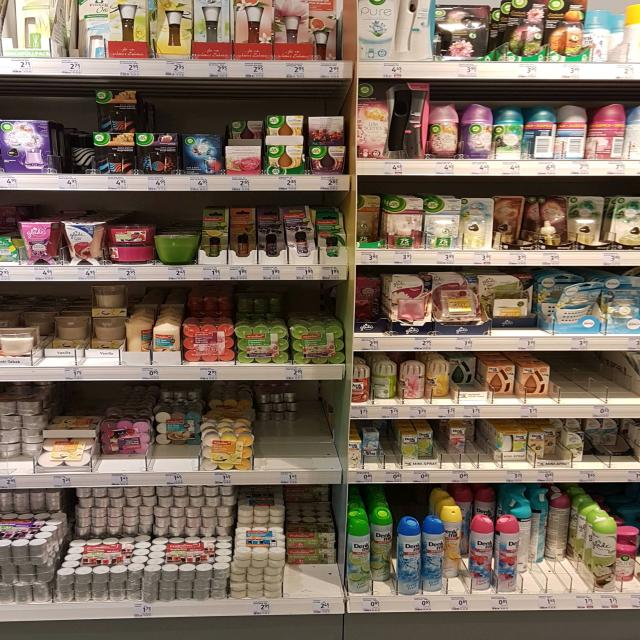unorganised: (518, 487, 570, 572), (544, 280, 601, 326), (485, 281, 536, 331), (230, 526, 287, 569), (91, 284, 125, 353), (486, 365, 553, 400), (492, 516, 520, 590), (93, 85, 138, 131), (101, 422, 152, 462), (492, 194, 528, 250), (441, 505, 466, 585), (570, 192, 606, 247), (589, 101, 624, 157), (533, 196, 570, 247), (153, 413, 201, 452), (76, 1, 109, 56), (287, 530, 337, 565), (525, 106, 557, 160), (371, 509, 394, 584), (557, 101, 586, 159), (152, 231, 198, 264), (256, 388, 297, 425), (53, 315, 89, 354), (369, 357, 399, 403), (313, 16, 341, 63), (586, 419, 622, 455), (308, 115, 347, 145), (356, 197, 381, 243), (445, 424, 482, 455), (398, 363, 426, 400), (123, 319, 152, 354), (107, 244, 153, 265), (357, 278, 380, 320), (426, 359, 449, 400), (532, 430, 561, 462), (229, 120, 264, 146), (452, 357, 477, 386), (68, 141, 93, 169), (363, 431, 380, 462), (418, 432, 437, 459)
